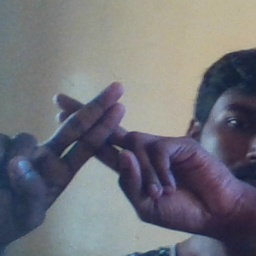F: (26, 69, 164, 202)
